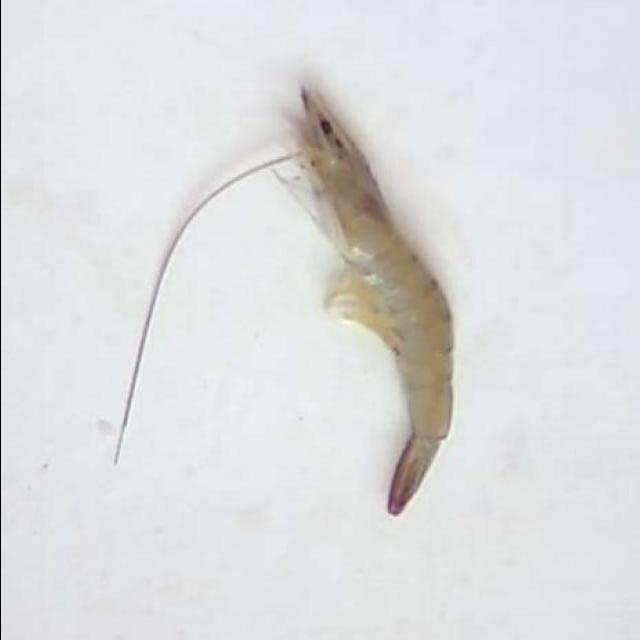shrimp: (303, 87, 451, 516)
